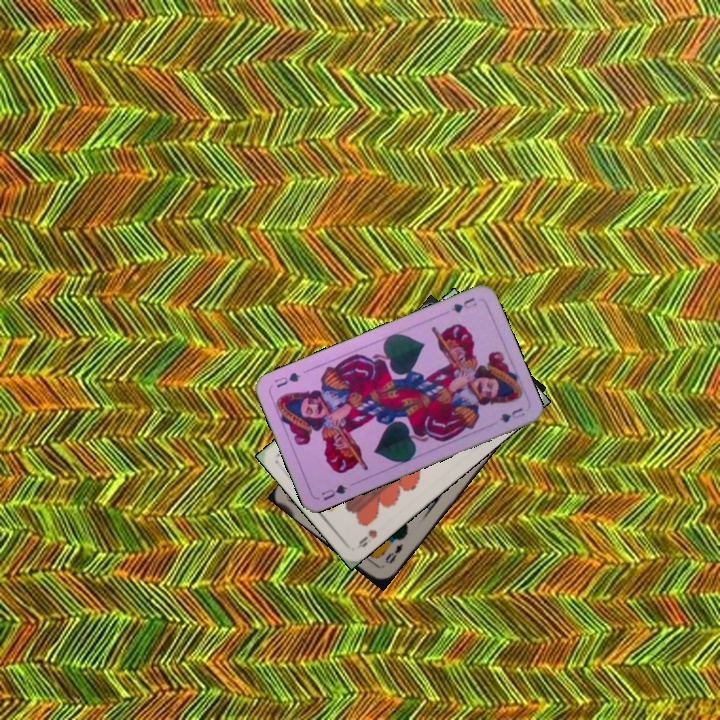EO: (381, 540, 405, 567)
GU: (317, 480, 350, 503), (448, 293, 480, 315)
H9: (355, 525, 380, 550)
